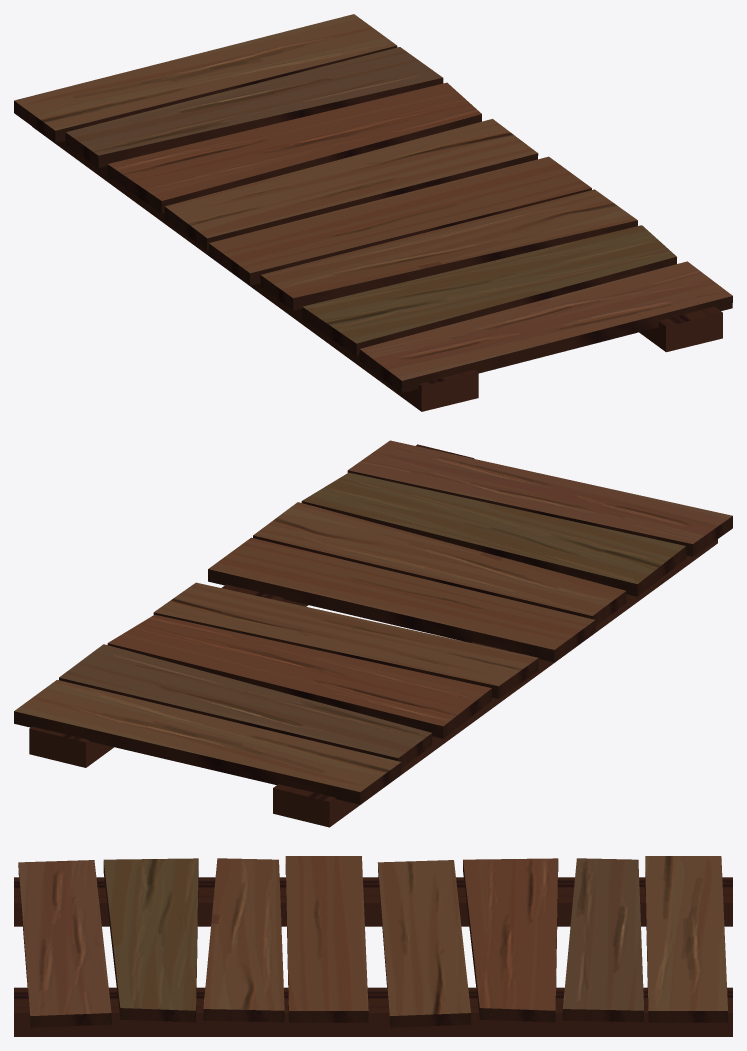
File: bridge_2.gltf
3 views of the same model, one above another, from view 1: azimuth 30°, elevation 25°; view 2: azimuth 150°, elevation 25°; view 3: azimuth 270°, elevation 25° (orthographic). The views are drawn at different scales.
Visible parts, largest first — view 1: Bridge2; view 2: Bridge2; view 3: Bridge2.
Part boxes in pixels (x1,y1,x2,y2): Bridge2: (14, 14, 732, 411); Bridge2: (14, 440, 732, 827); Bridge2: (14, 856, 732, 1036).
Size of what is drawn, in the model's own units: 1.02 by 0.1097 by 2.
1 material, 1 textured.
